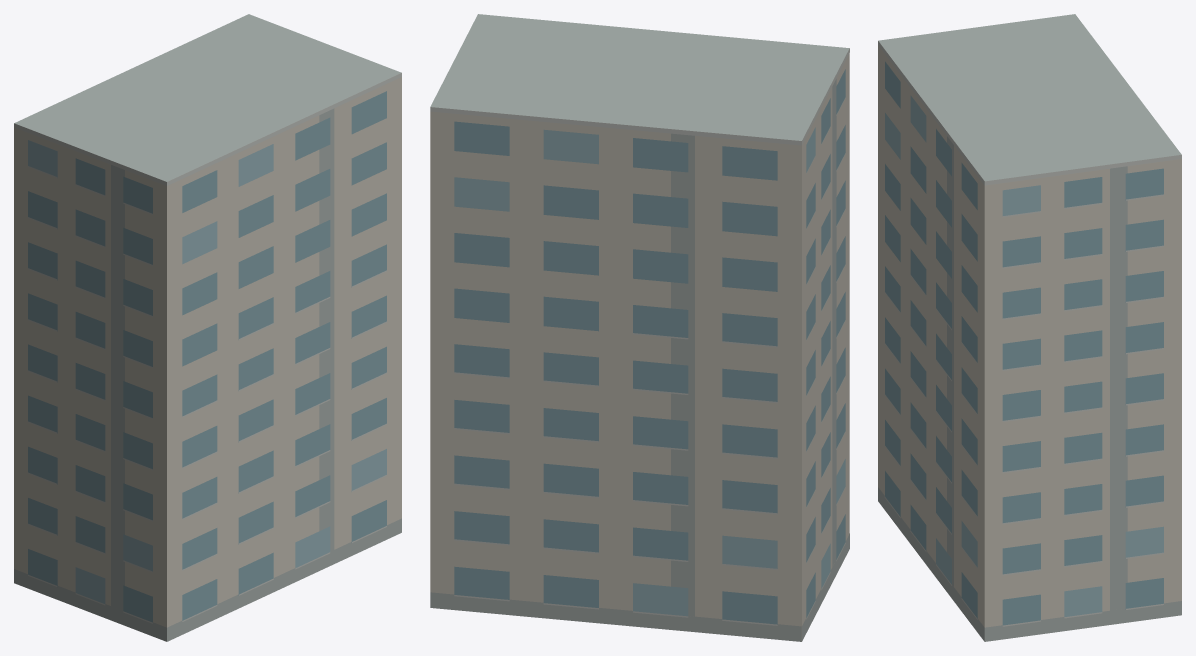
Rendered from residential-5f75e732-193a-4681-93f8-c3612340eab7.glb.
3 views of the same model, side by side, from view 1: azimuth 30°, elevation 25°; view 2: azimuth 150°, elevation 25°; view 3: azimuth 270°, elevation 25° (orthographic). The views are drawn at different scales.
Visible parts, largest first — view 1: residential-5f75e732-193a-4681-93f8-c3612340eab7.tmp; view 2: residential-5f75e732-193a-4681-93f8-c3612340eab7.tmp; view 3: residential-5f75e732-193a-4681-93f8-c3612340eab7.tmp.
Boxes of the visible parts, x1=… form: residential-5f75e732-193a-4681-93f8-c3612340eab7.tmp: x1=14, y1=14, x2=401, y2=641; residential-5f75e732-193a-4681-93f8-c3612340eab7.tmp: x1=430, y1=14, x2=849, y2=641; residential-5f75e732-193a-4681-93f8-c3612340eab7.tmp: x1=878, y1=14, x2=1181, y2=641.
Size of the model in its own units: 21.06 by 27 by 16.15.
